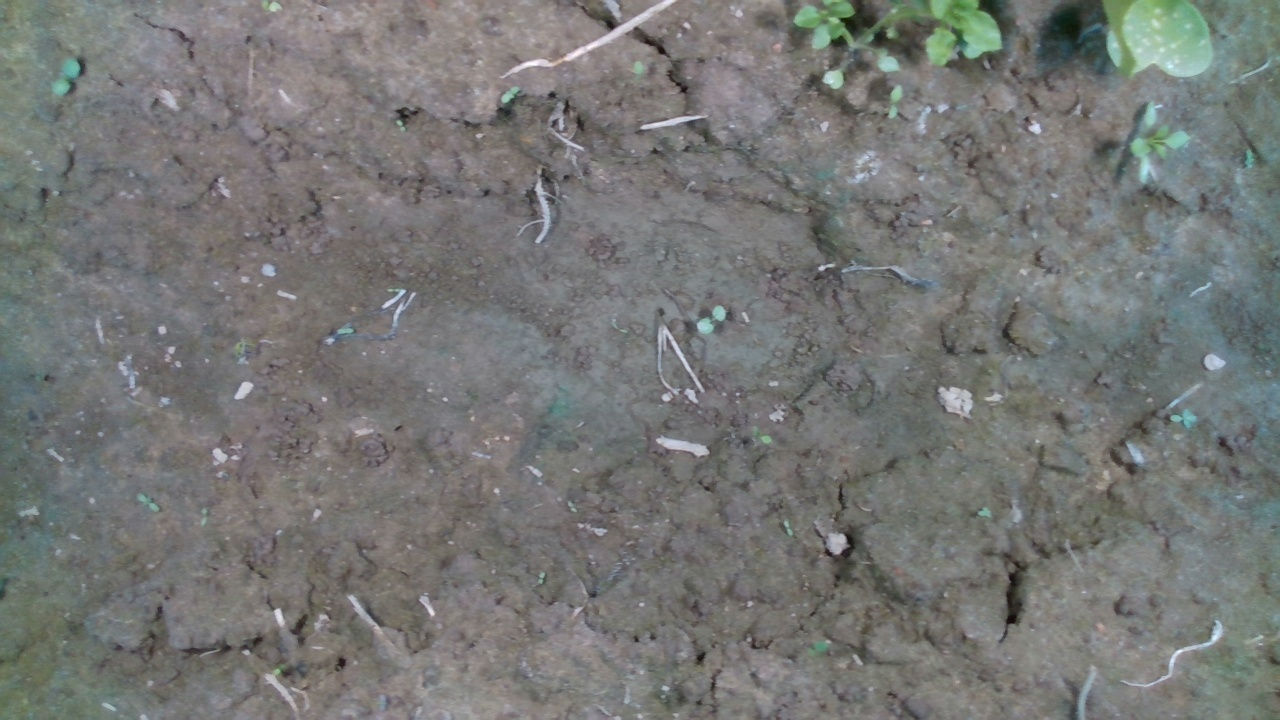weed: (34, 53, 80, 102), (689, 299, 730, 343)
